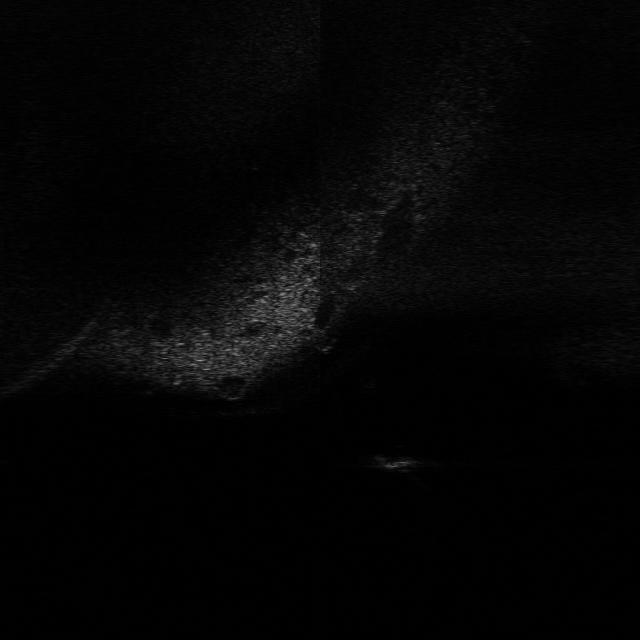ball: (306, 328, 342, 357)
cube: (364, 448, 427, 474)
